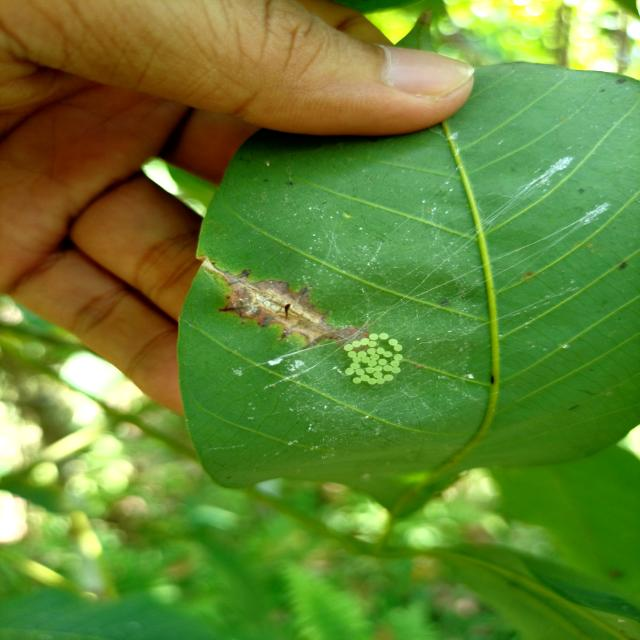Corynespora: (209, 262, 370, 353)
